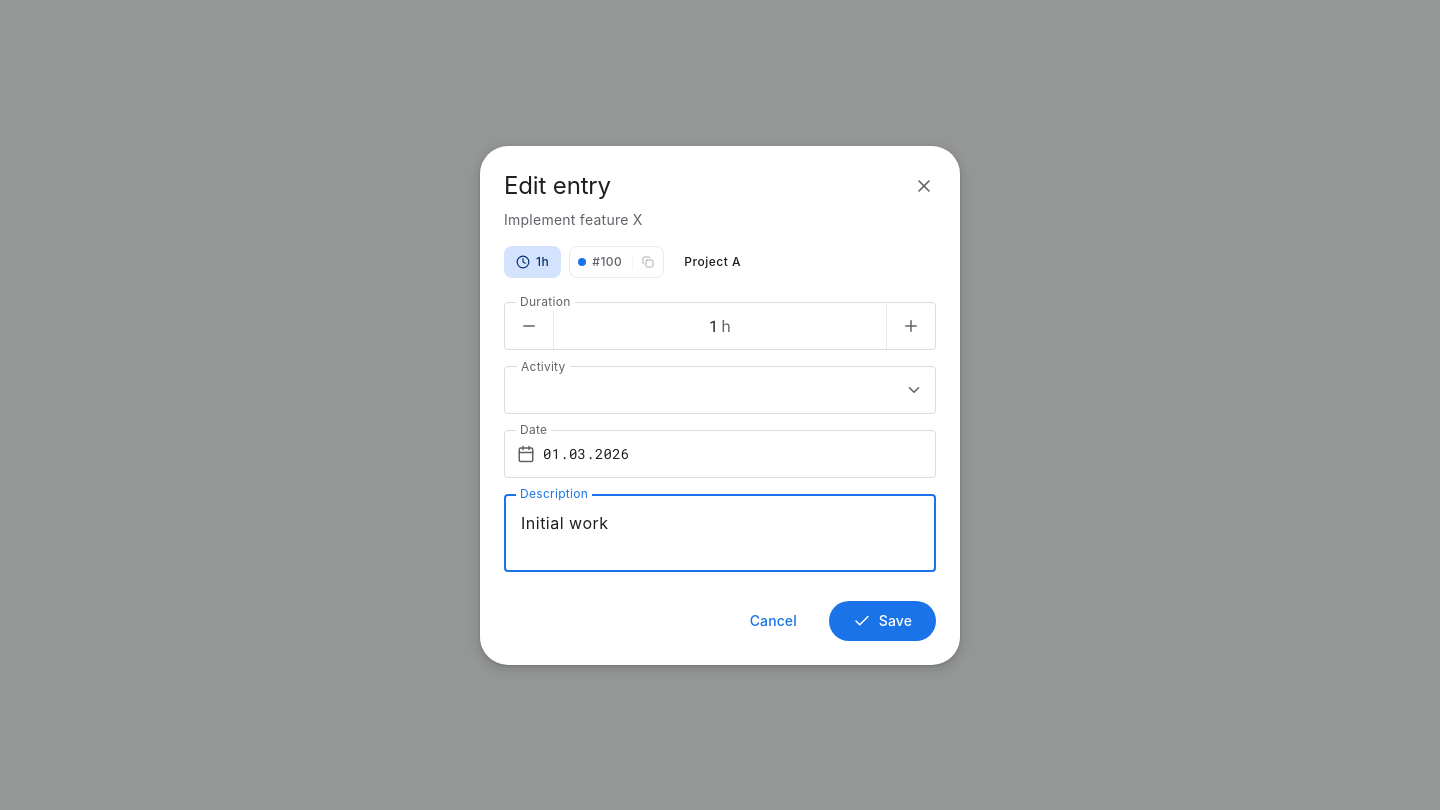
Test: EditEntryDialog › shows strikethrough original duration when duration changed
Click the button named "15 minutes more" at (911, 326), box [887,302,935,348]
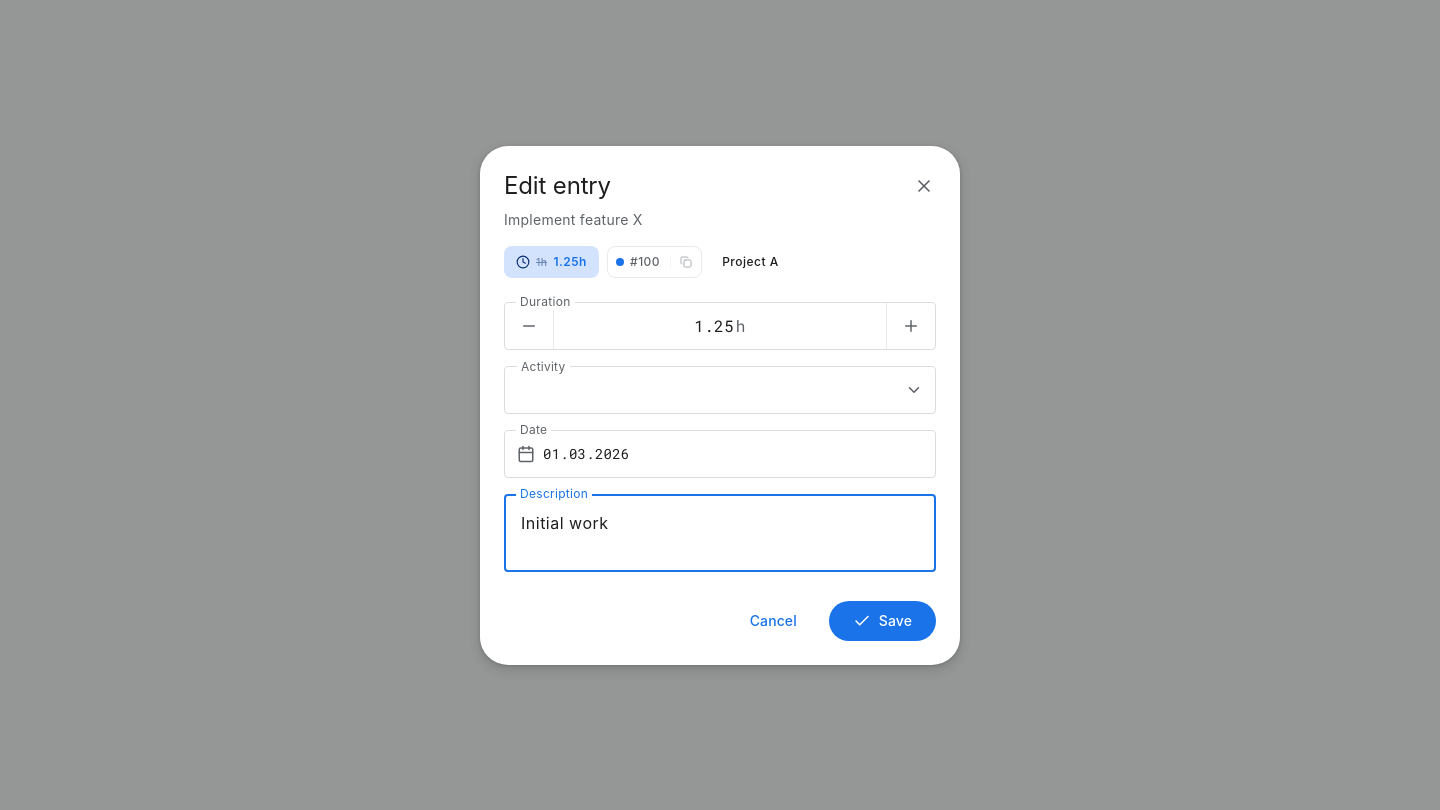
Expected: the element titled "Urspr" shows "1h", [504,246,599,278]
Expected: the element titled "Urspr" shows "1.25h", [504,246,599,278]
